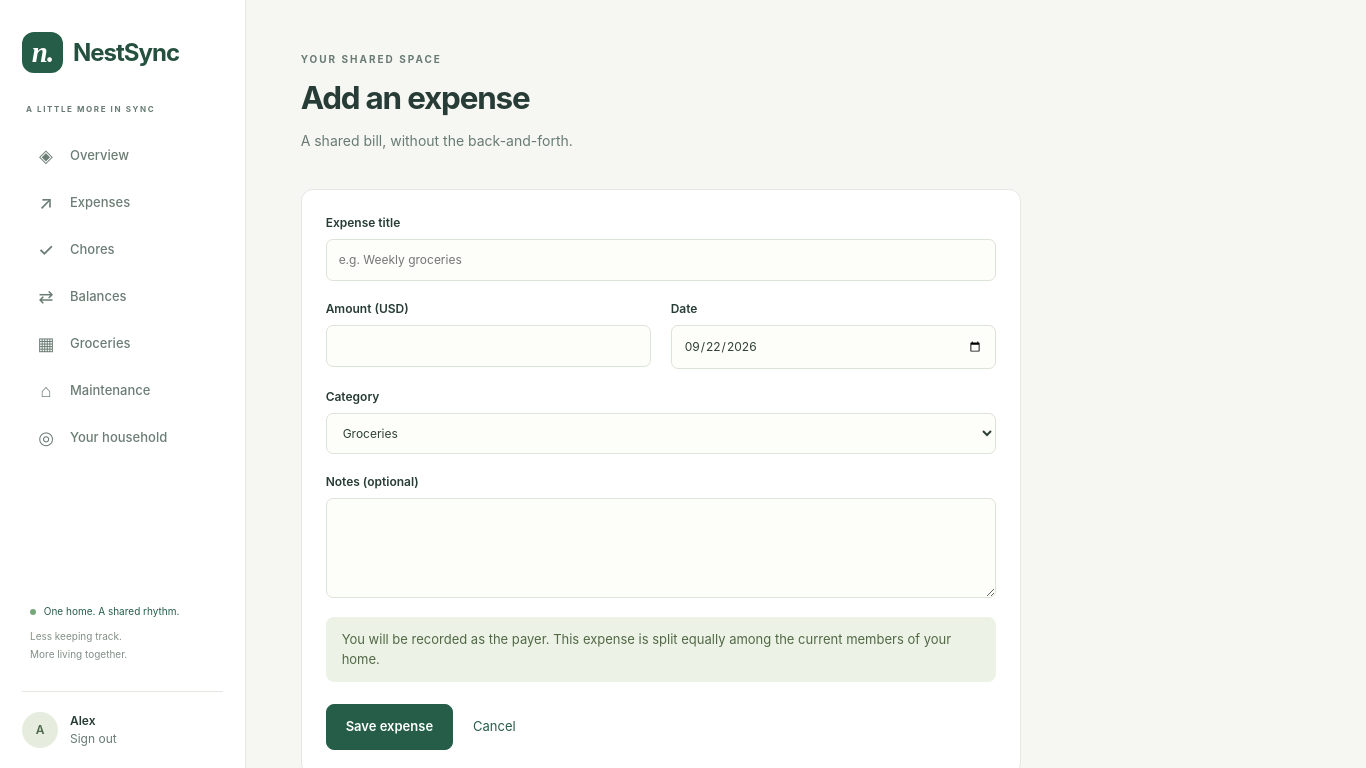
it: adds an expense with exact decimal input
This screenshot has width=1366, height=768.
Type "Coffee" into the field labelled "Expense title".
click(661, 260); type("Coffee")  # box [326,239,996,281]
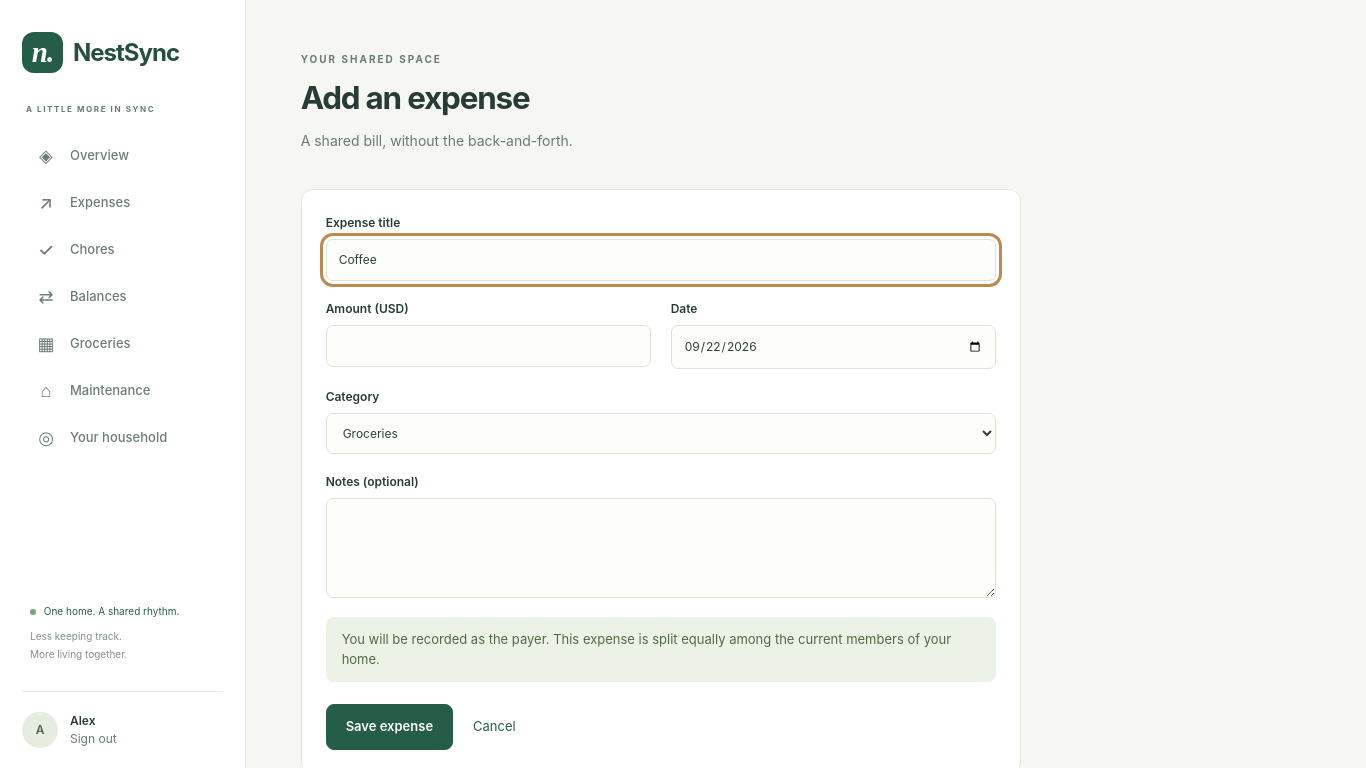
Type "25.50" into the number field labelled "Amount (USD)".
click(488, 346); type("25.50")  # box [326,325,651,367]
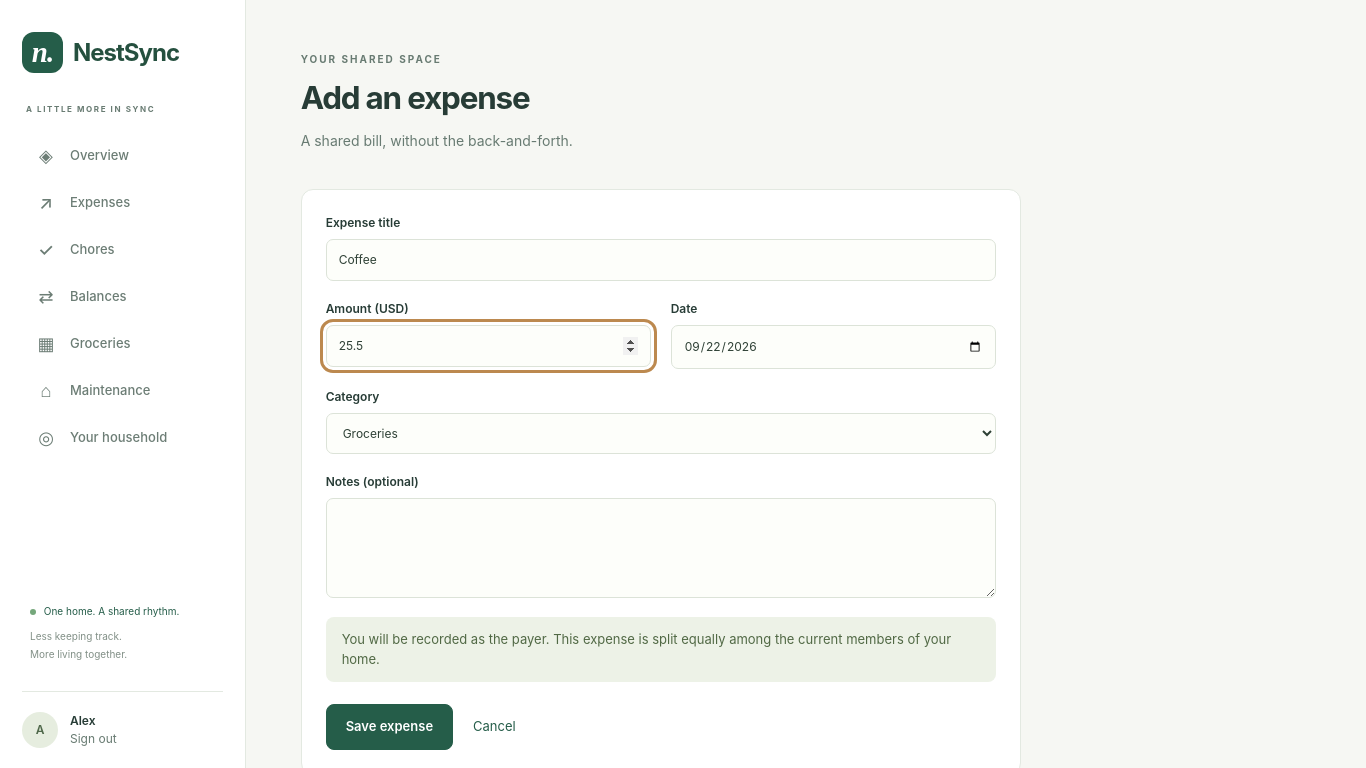
Click the button "Save expense".
click(389, 727)  # box [326,704,453,750]
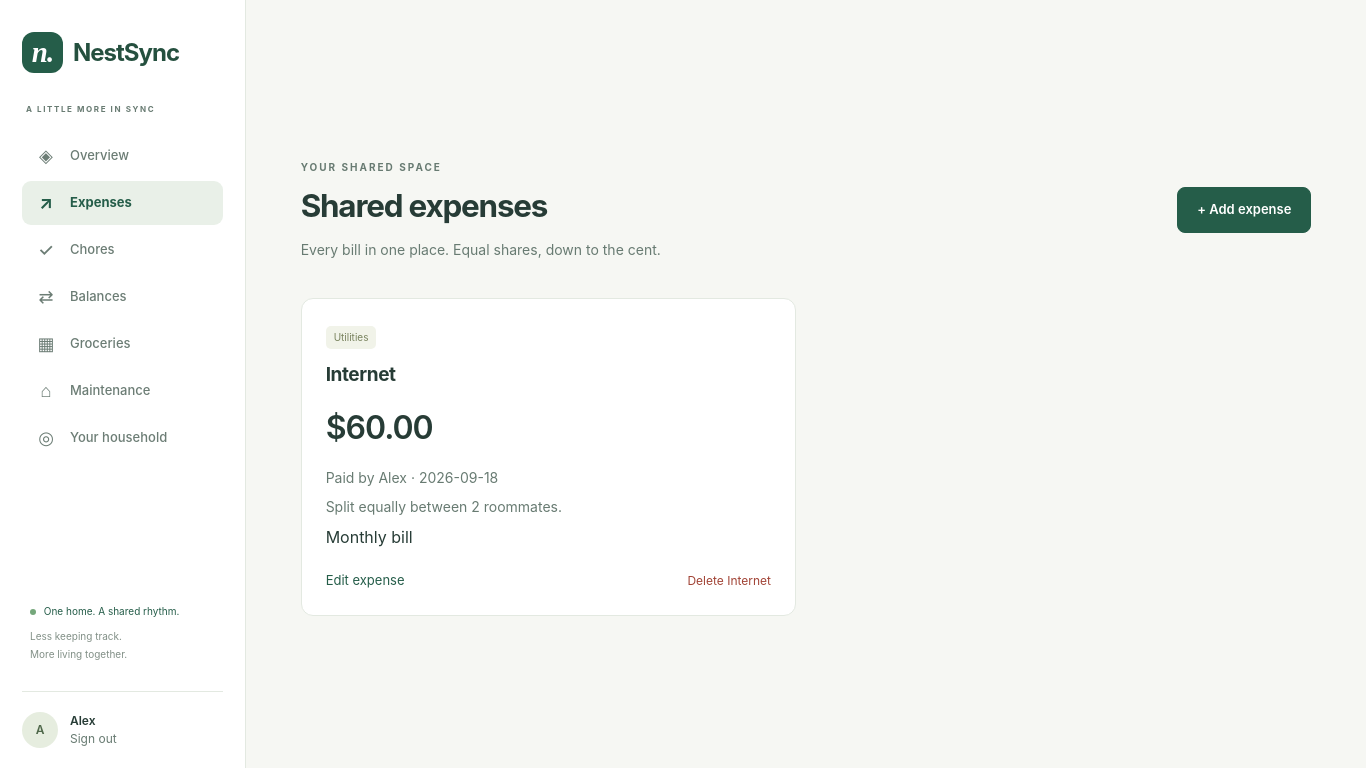
expect the heading "Shared expenses" is shown: met, box [301,187,547,225]
